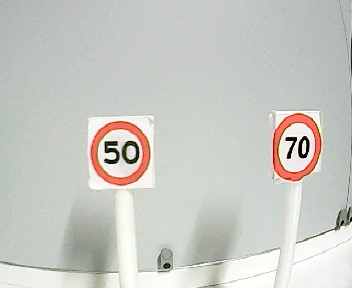50-bord: (92, 121, 149, 185)
70-bord: (273, 112, 322, 181)
